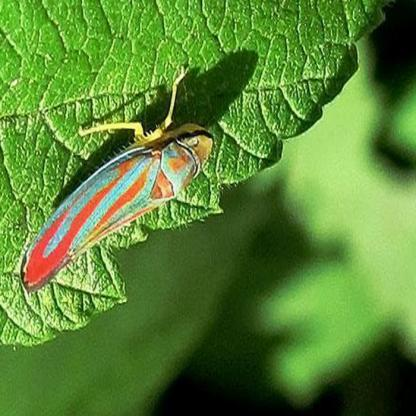green-leafhopper: (23, 70, 212, 294)
